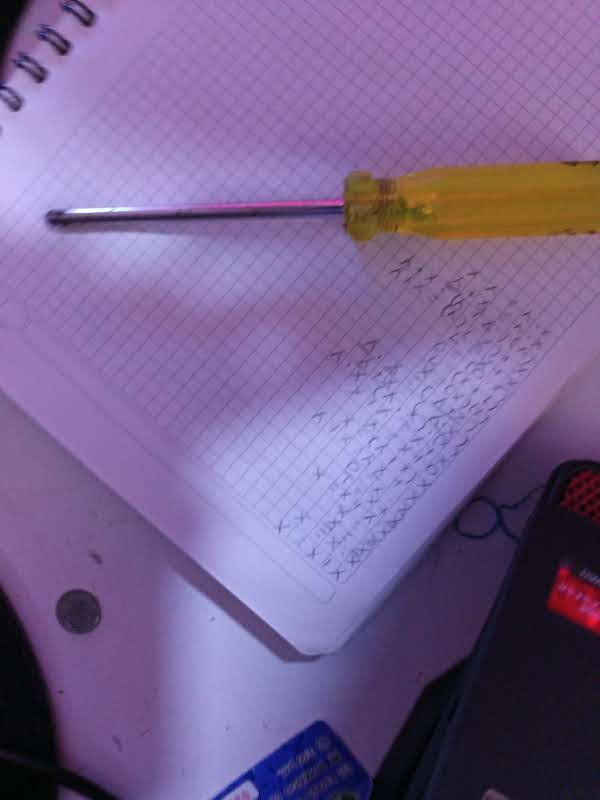Destornillador: (48, 162, 599, 240)
